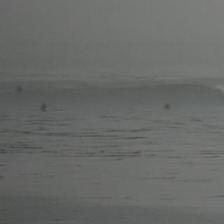surfer: (163, 103, 171, 110), (16, 85, 23, 92), (41, 102, 47, 110)
